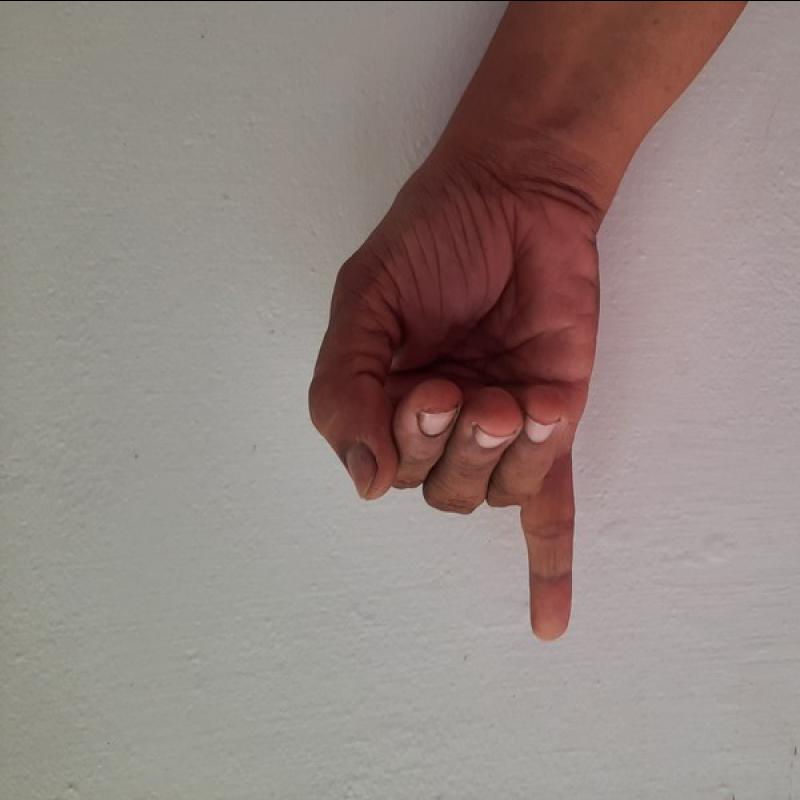Kartharee Mukham: (295, 156, 618, 642)
